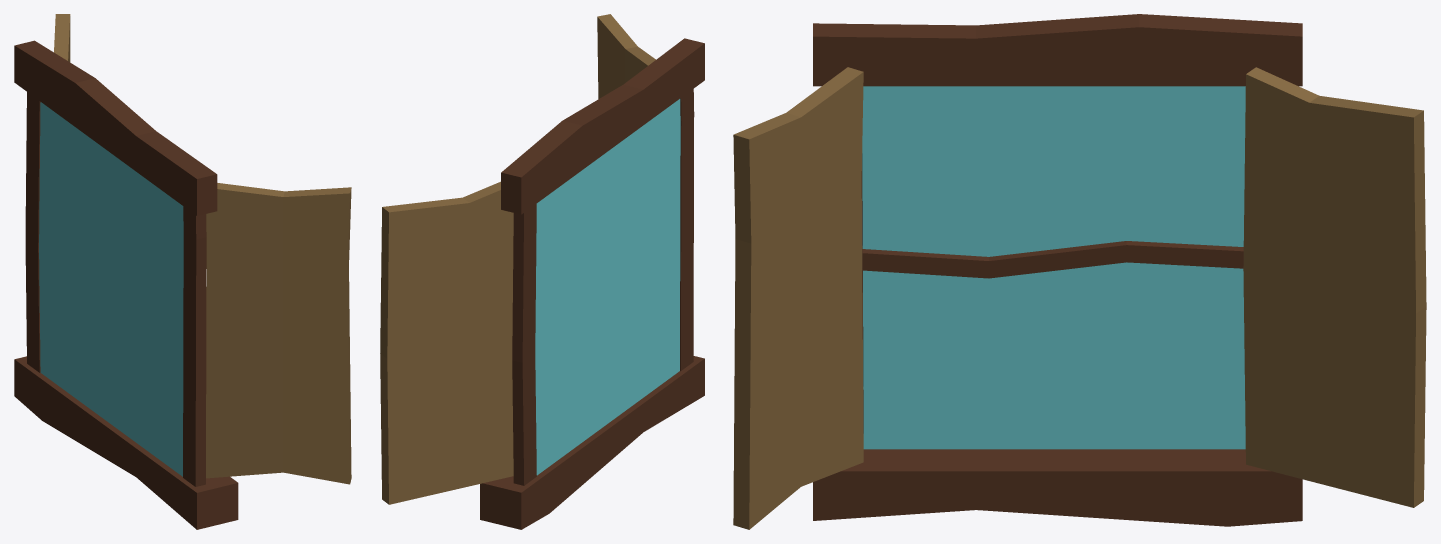
Rendered from StiltWindow_Open.fbx.
3 views of the same model, side by side, from view 1: azimuth 30°, elevation 25°; view 2: azimuth 150°, elevation 25°; view 3: azimuth 270°, elevation 25° (orthographic). The views are drawn at different scales.
Parts seen in each view (by area): view 1: Window_1; view 2: Window_1; view 3: Window_1.
Boxes of the visible parts, x1=… form: Window_1: x1=14, y1=14, x2=351, y2=529; Window_1: x1=380, y1=14, x2=704, y2=529; Window_1: x1=733, y1=14, x2=1426, y2=529.
Bounding box in the file's own units: 28.09 × 74.3 × 96.1.
